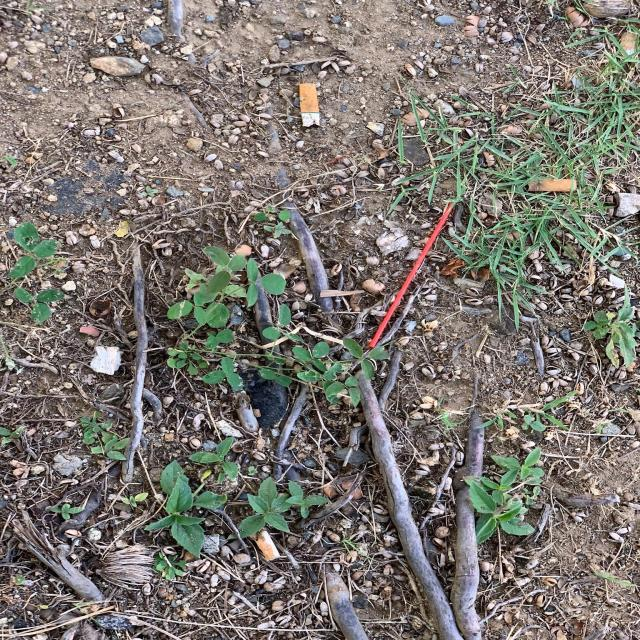litter: (368, 200, 456, 348), (298, 83, 321, 129), (529, 176, 579, 192)
